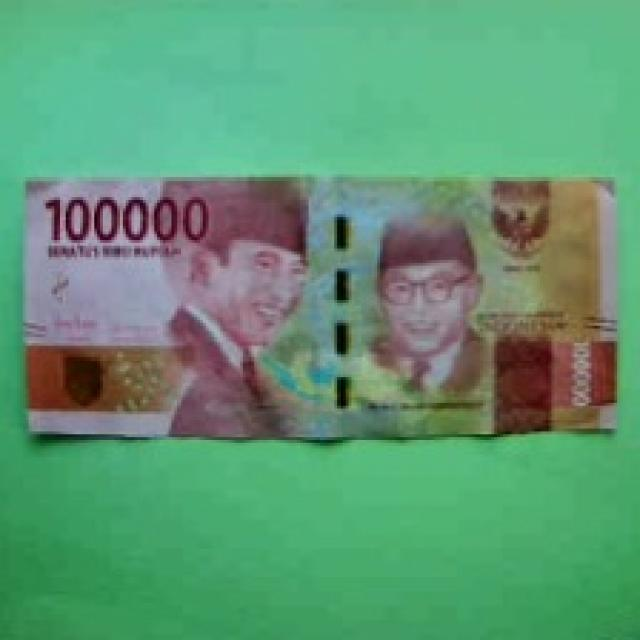lima puluh ribu rupiah: (15, 160, 629, 442)
